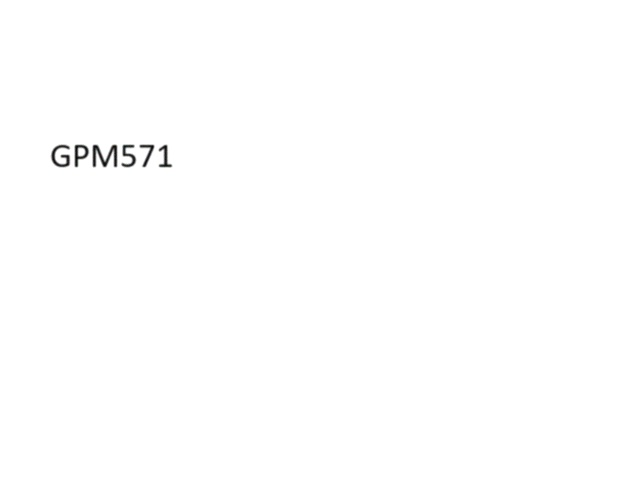OCR_AREA: (46, 141, 178, 171)
